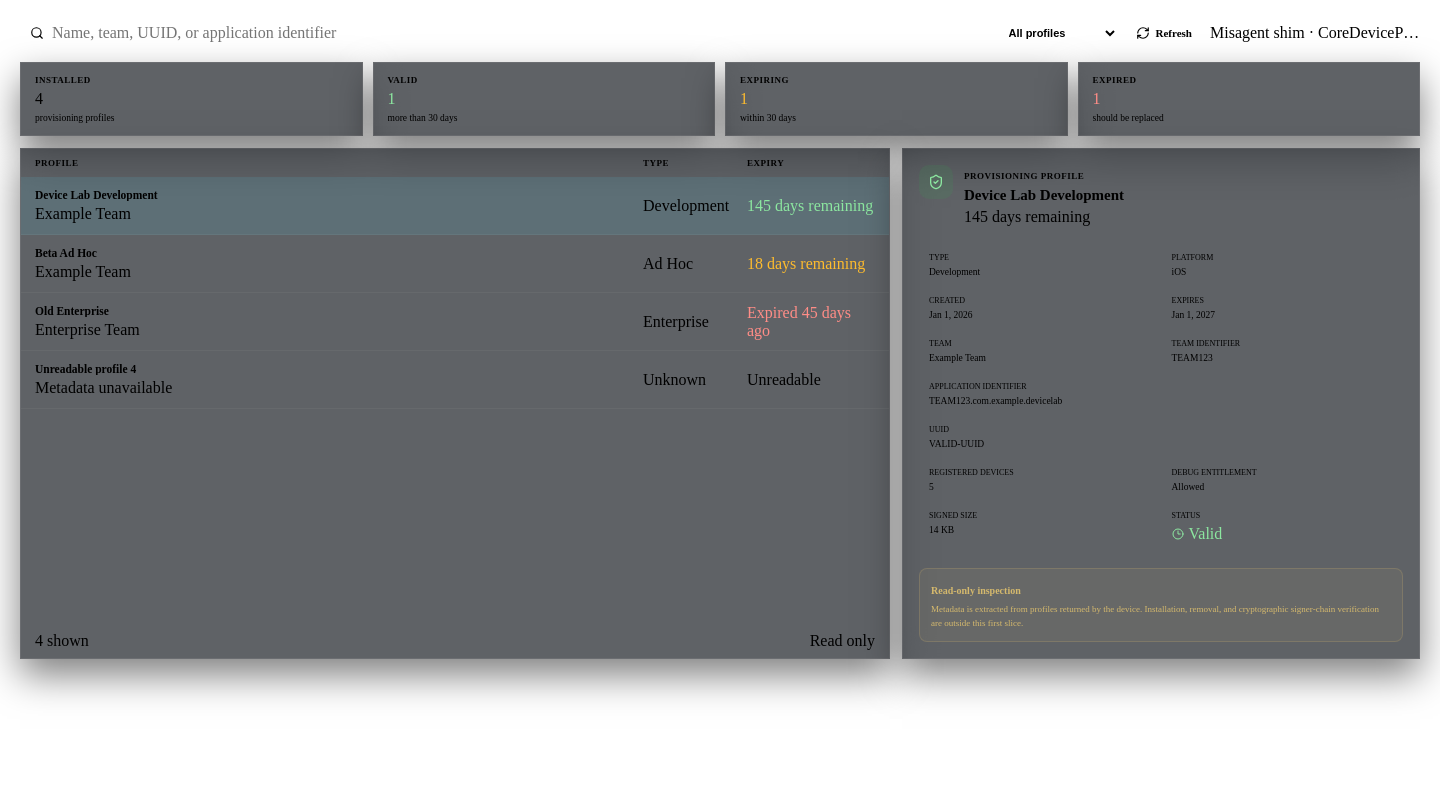
Provisioning Profiles workflow › filters the list to profiles that need attention
The image size is (1452, 810).
Expected: the button "Device Lab Development" is shown, [21,177,889,235]
Select "Needs attention" in the dropdown named "Filter profiles": (1056, 33) [994,18,1118,48]
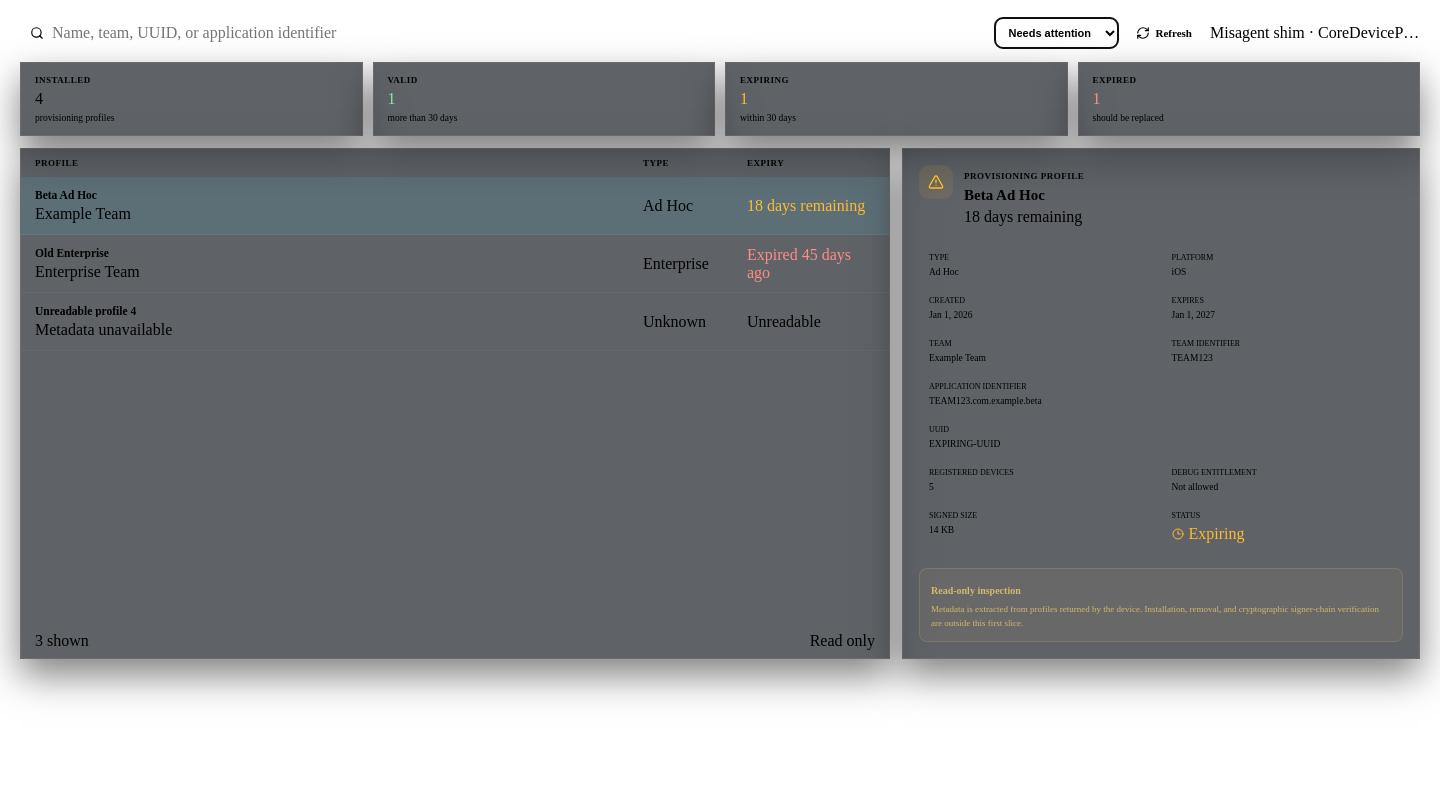
Expected: the button "Beta Ad Hoc Example Team Ad Hoc 18 days remaining" is shown, [21,177,889,235]
Expected: the button "Device Lab Development" is gone
